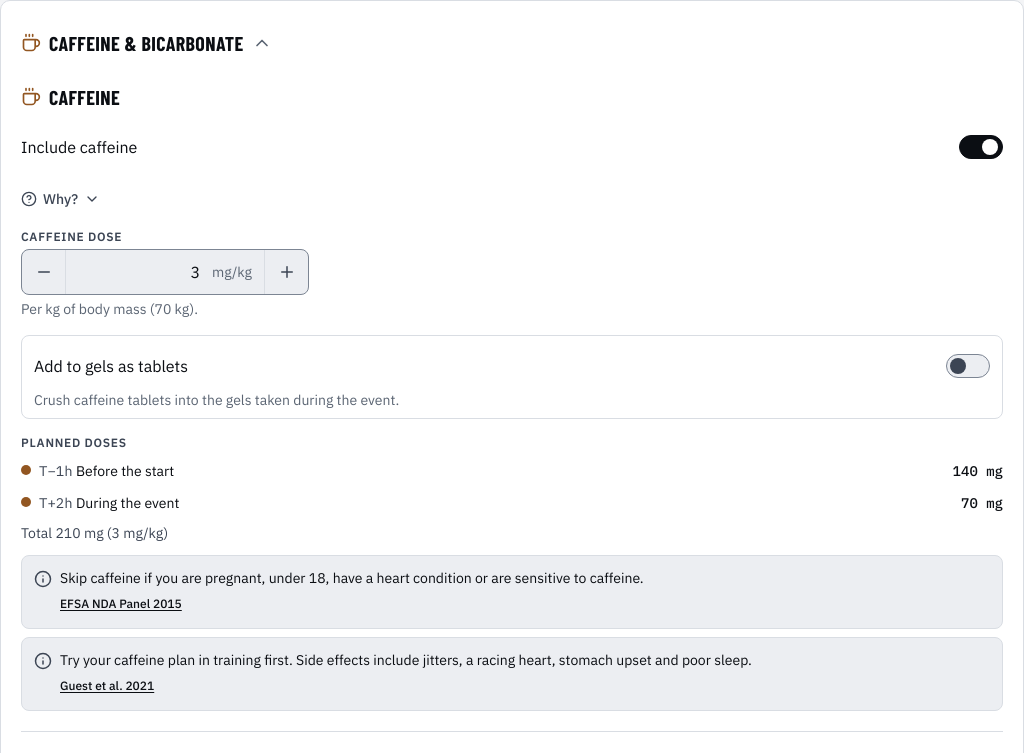
SupplementsSection: caffeine › shows the dose the plan uses, to two decimals, and commits at that precision
The image size is (1024, 753).
Replace the text in the number field labelled "Caffeine dose" with "3.25". click: [139, 272]
box: [66,250,212,294]
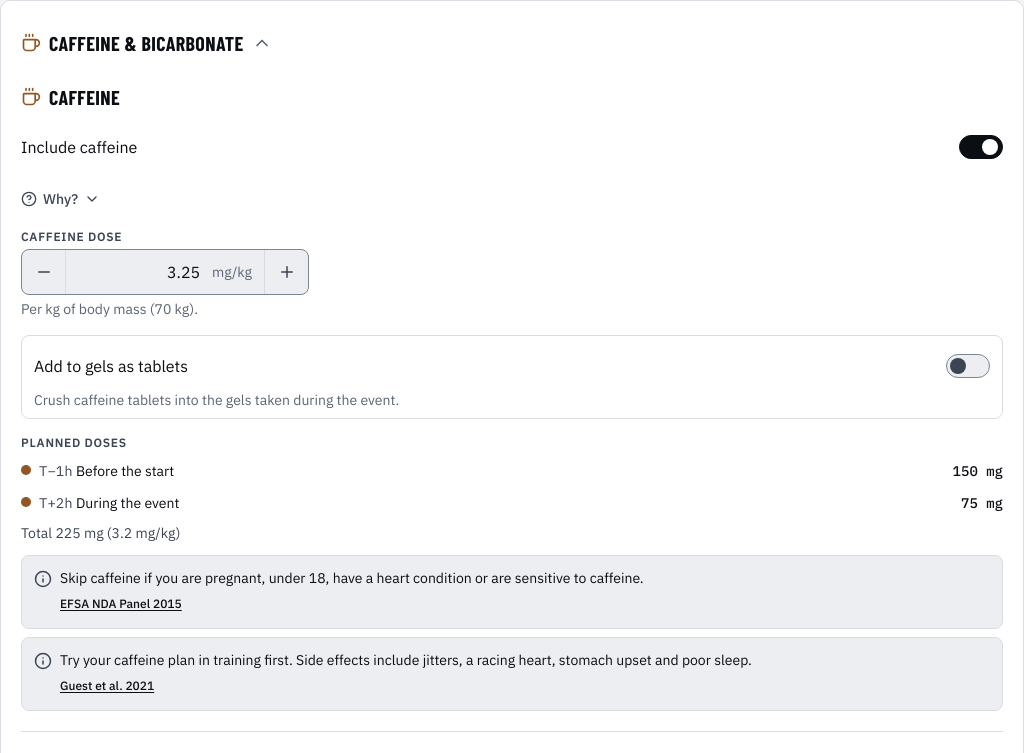
Now the number field labelled "Caffeine dose" has attribute aria-valuetext="3.25 mg/kg"
Replace the text in the number field labelled "Caffeine dose" with "3.255". click: [139, 272]
box: [66,250,212,294]
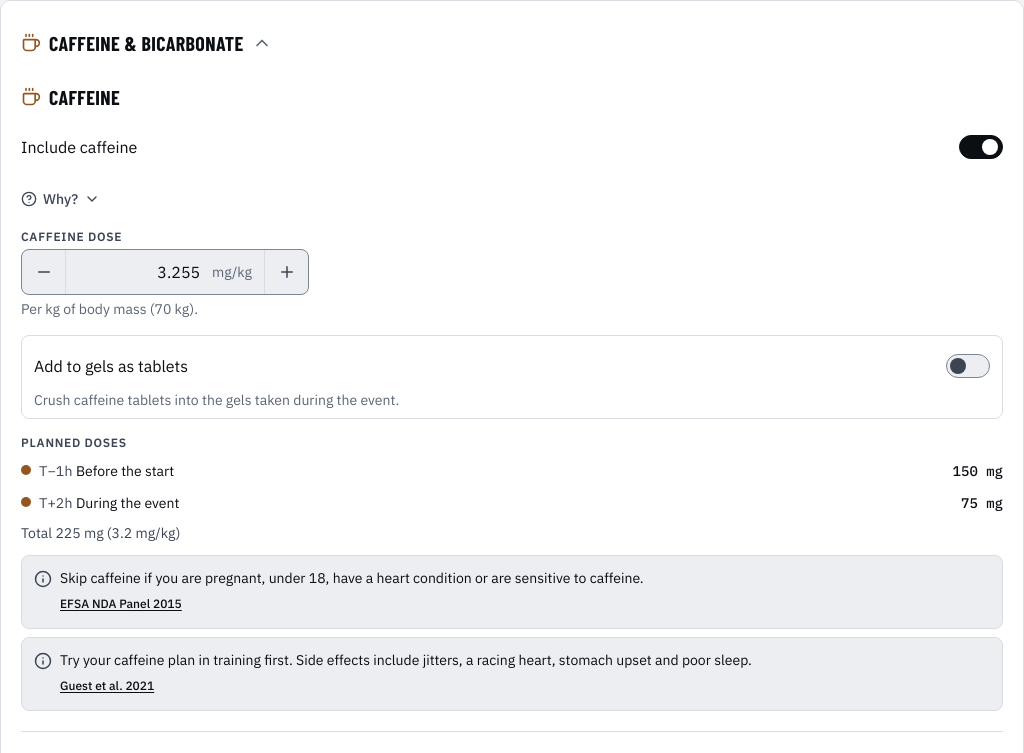
Leave the number field labelled "Caffeine dose", box [66,250,212,294]
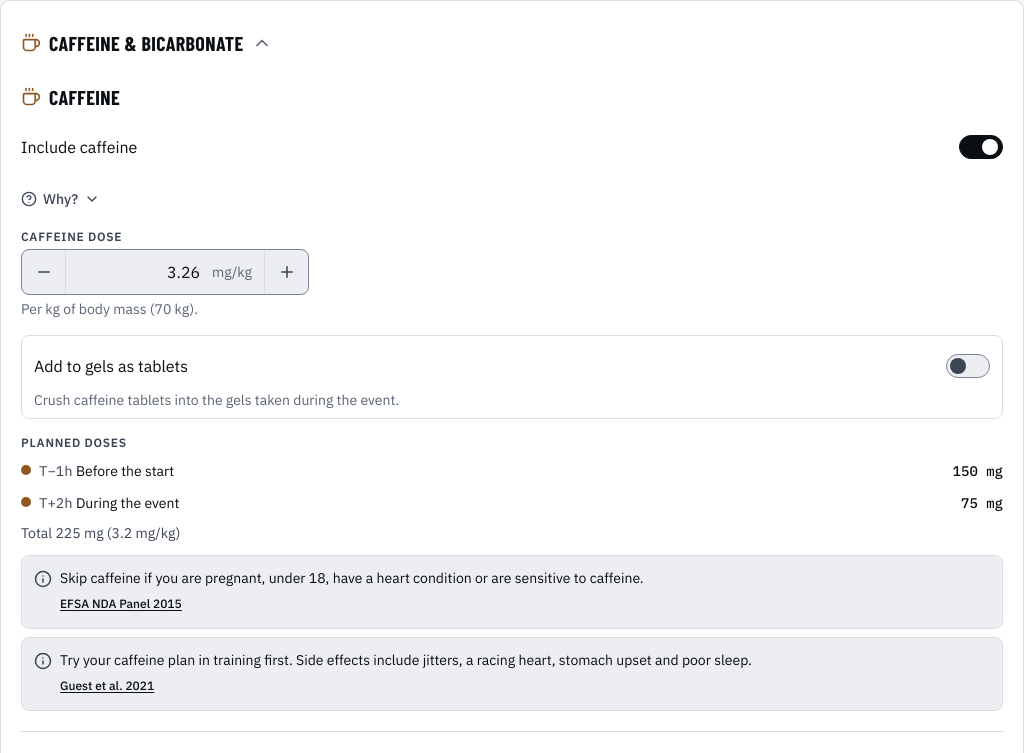
Now the number field labelled "Caffeine dose" holds "3.26", box [66,250,212,294]
